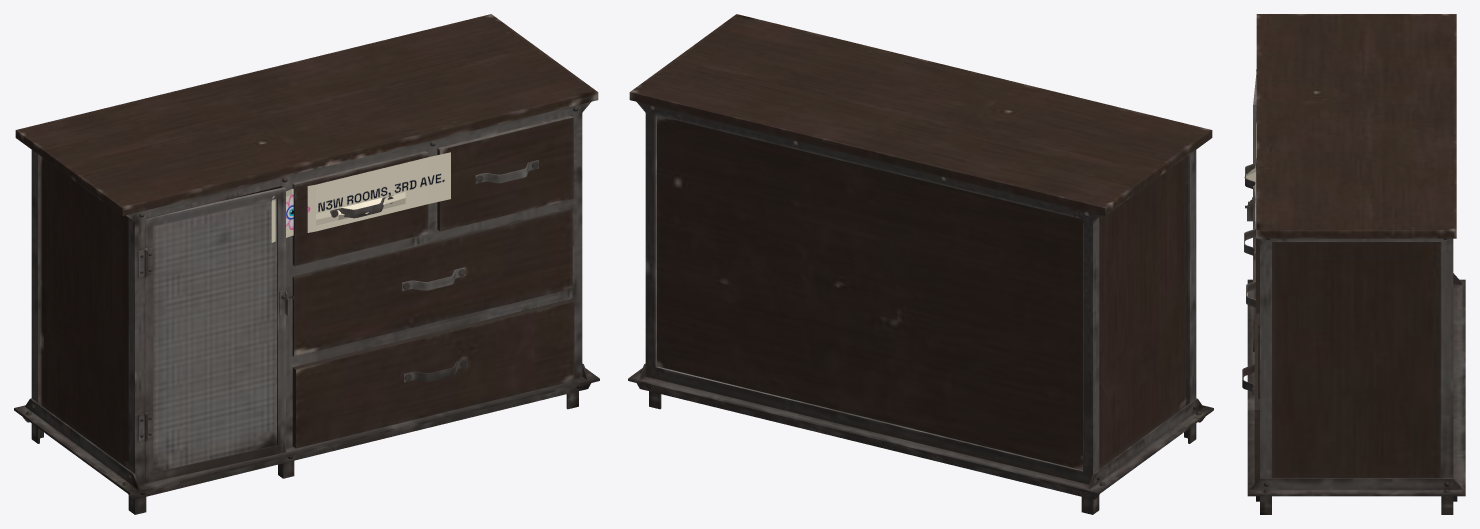
File: nyb_lostweekend_table.glb
The picture shows the model from 3 angles, left to right: view 1: azimuth 30°, elevation 25°; view 2: azimuth 150°, elevation 25°; view 3: azimuth 270°, elevation 25°; orthographic projection. The views are drawn at different scales.
Visible parts, largest first — view 1: WoodenTable_03_drawer02, stk_lbl_4fbbe2aead.png; view 2: WoodenTable_03_drawer02; view 3: WoodenTable_03_drawer02.
Boxes of the visible parts, x1,y1,x2,y2 form: WoodenTable_03_drawer02: (14,14,599,514); stk_lbl_4fbbe2aead.png: (271,152,450,242); WoodenTable_03_drawer02: (628,14,1213,514); WoodenTable_03_drawer02: (1242,14,1465,514).
Size of the model in its own units: 1.33 by 0.8301 by 0.5753.
Materials: 2 (2 with a texture image).
